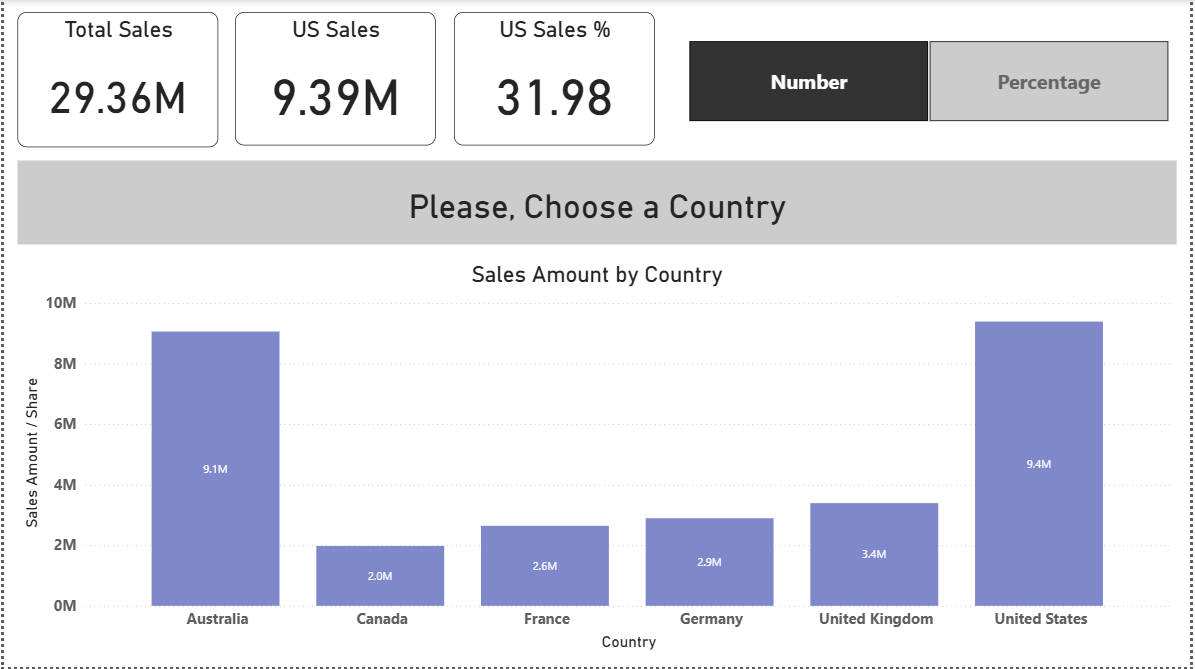

What the dashboard file says about the page in this screenshot:
{"tool":"powerbi","page":{"name":"Page 1","canvas":[1280,720],"ordinal":0},"visuals":[{"type":"slicer","fields":{"Values":["SwitchTable.DataType"]},"box":[714.1,37.2,566.7,100.4],"z":0},{"type":"card","title":"Total Sales","fields":{"Values":["#Measures.TotalSalesAmount"]},"box":[14.6,13,217,145.7],"z":1000},{"type":"card","title":"US Sales","fields":{"Values":["#Measures.SalesAmountUnitedStates"]},"box":[249.4,13,217,144.1],"z":2000},{"type":"card","title":"US Sales %","fields":{"Values":["#Measures.%SalesAmountUnitedStates"]},"box":[485.8,13,217,144.1],"z":3000},{"type":"card","fields":{"Values":["#Measures.SelectedCountry"]},"box":[14.6,173.3,1251.7,90.7],"z":4000},{"type":"clusteredColumnChart","title":"Sales Amount by Country","fields":{"Y":["#Measures.NumberVsPercentage"],"Category":["dim_SalesTeritory.SalesTerritoryCountry"]},"box":[14.6,281.7,1251.7,424.2],"z":5000}]}

Visuals, with their boxes in screenshot pixels (x1, y1, x2, y2), scaled from the page's 1280x720 canvas onto the 1195x669 screenshot:
slicer - SwitchTable.DataType: [667,35,1194,128]
"Total Sales" card: [14,12,216,147]
"US Sales" card: [233,12,435,146]
"US Sales %" card: [454,12,656,146]
card - #Measures.SelectedCountry: [14,161,1182,245]
"Sales Amount by Country" clusteredColumnChart: [14,262,1182,656]
